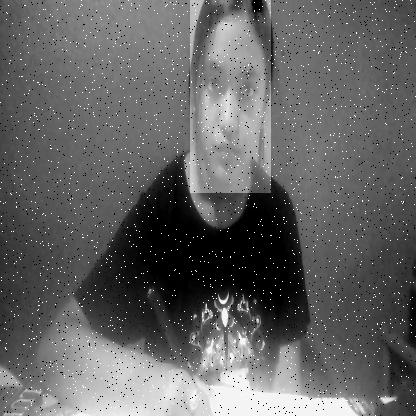Normal: (190, 0, 271, 193)
